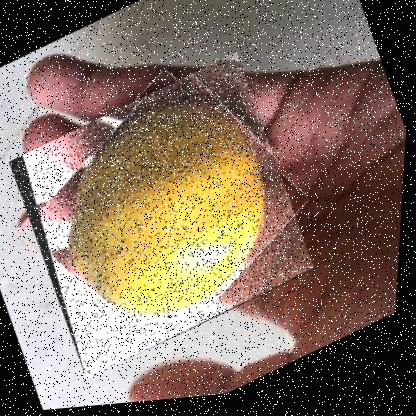orange: (0, 47, 329, 386)
